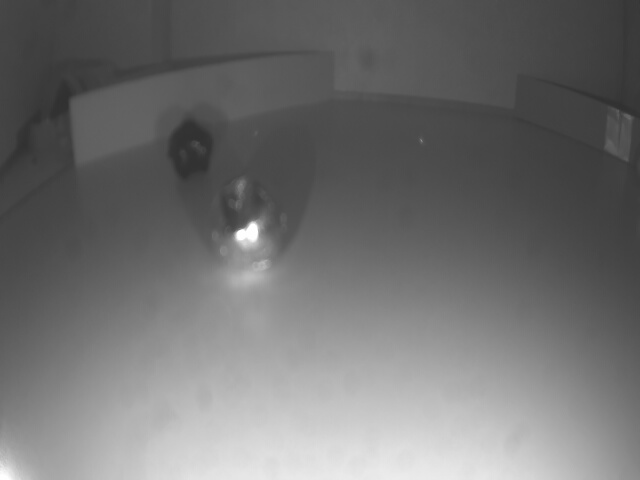Green: (515, 72, 640, 167)
Red: (73, 53, 334, 167)
